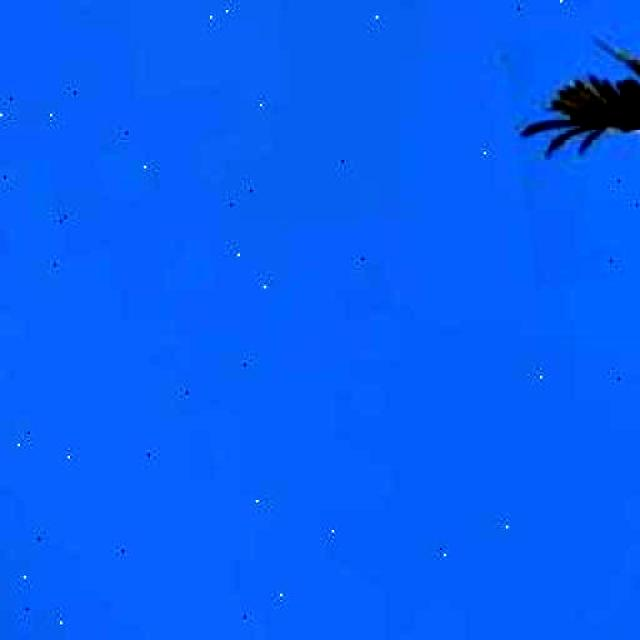airplane: (504, 0, 640, 288)
